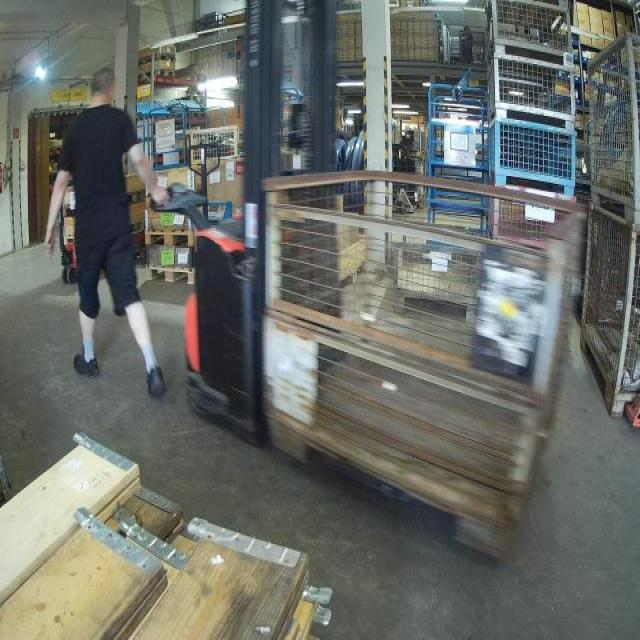pallet: (335, 254, 368, 296), (143, 226, 195, 251), (145, 265, 197, 288), (137, 52, 176, 69), (137, 69, 174, 79)
pallet_truck: (144, 3, 344, 448), (178, 130, 240, 274), (46, 185, 104, 291)
stillage: (263, 161, 562, 565), (575, 201, 638, 428), (581, 34, 639, 224), (479, 116, 579, 197), (479, 50, 579, 129), (391, 232, 483, 316), (482, 0, 578, 64), (485, 185, 581, 244), (187, 125, 249, 163)
